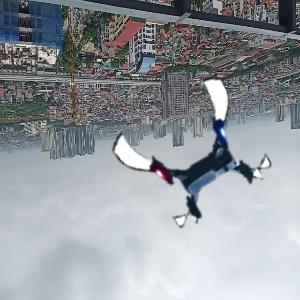drone: (124, 87, 260, 223)
